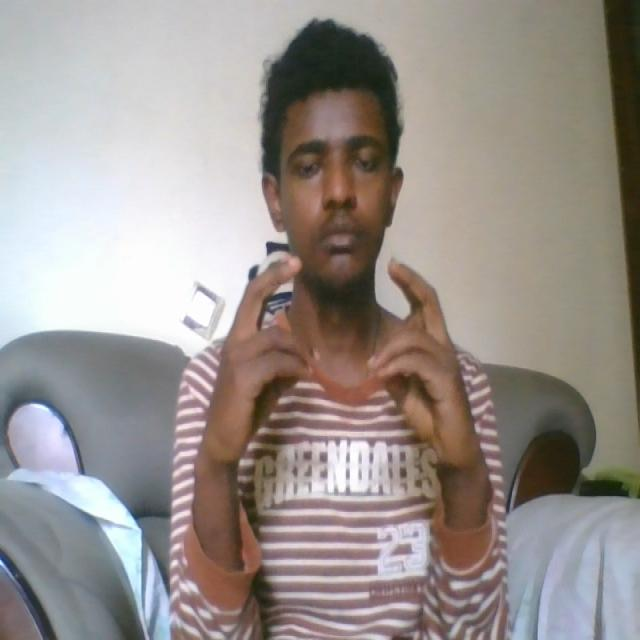sefer: (204, 253, 476, 459)
